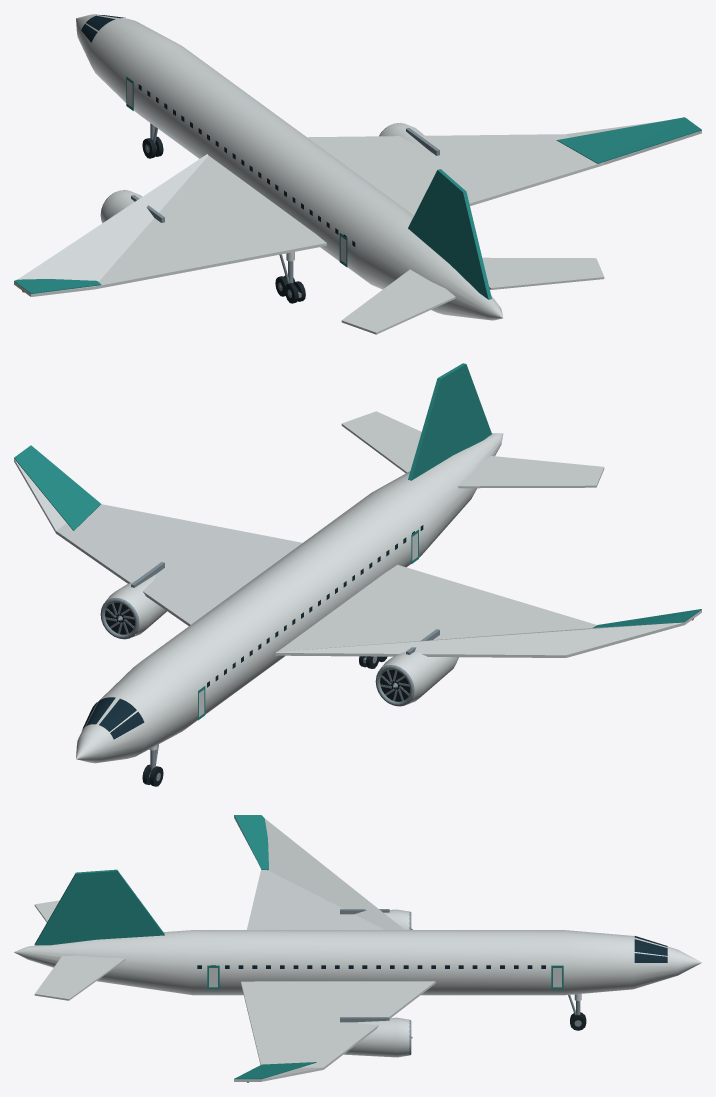
3 views of the same model, one above another, from view 1: azimuth 30°, elevation 25°; view 2: azimuth 150°, elevation 25°; view 3: azimuth 270°, elevation 25° (orthographic). The views are drawn at different scales.
Parts seen in each view (by area): view 1: 云雀 R-220 original airliner, landing-gear; view 2: 云雀 R-220 original airliner, landing-gear; view 3: 云雀 R-220 original airliner, landing-gear.
Boxes of the visible parts, left/top/right/bottom form: 云雀 R-220 original airliner: left=14, top=14, right=701, bottom=334; landing-gear: left=142, top=123, right=305, bottom=303; 云雀 R-220 original airliner: left=14, top=363, right=701, bottom=763; landing-gear: left=142, top=656, right=387, bottom=786; 云雀 R-220 original airliner: left=14, top=815, right=701, bottom=1082; landing-gear: left=568, top=994, right=586, bottom=1030.
Bounding box in the file's own units: 35.14 × 9.84 × 38.7.
